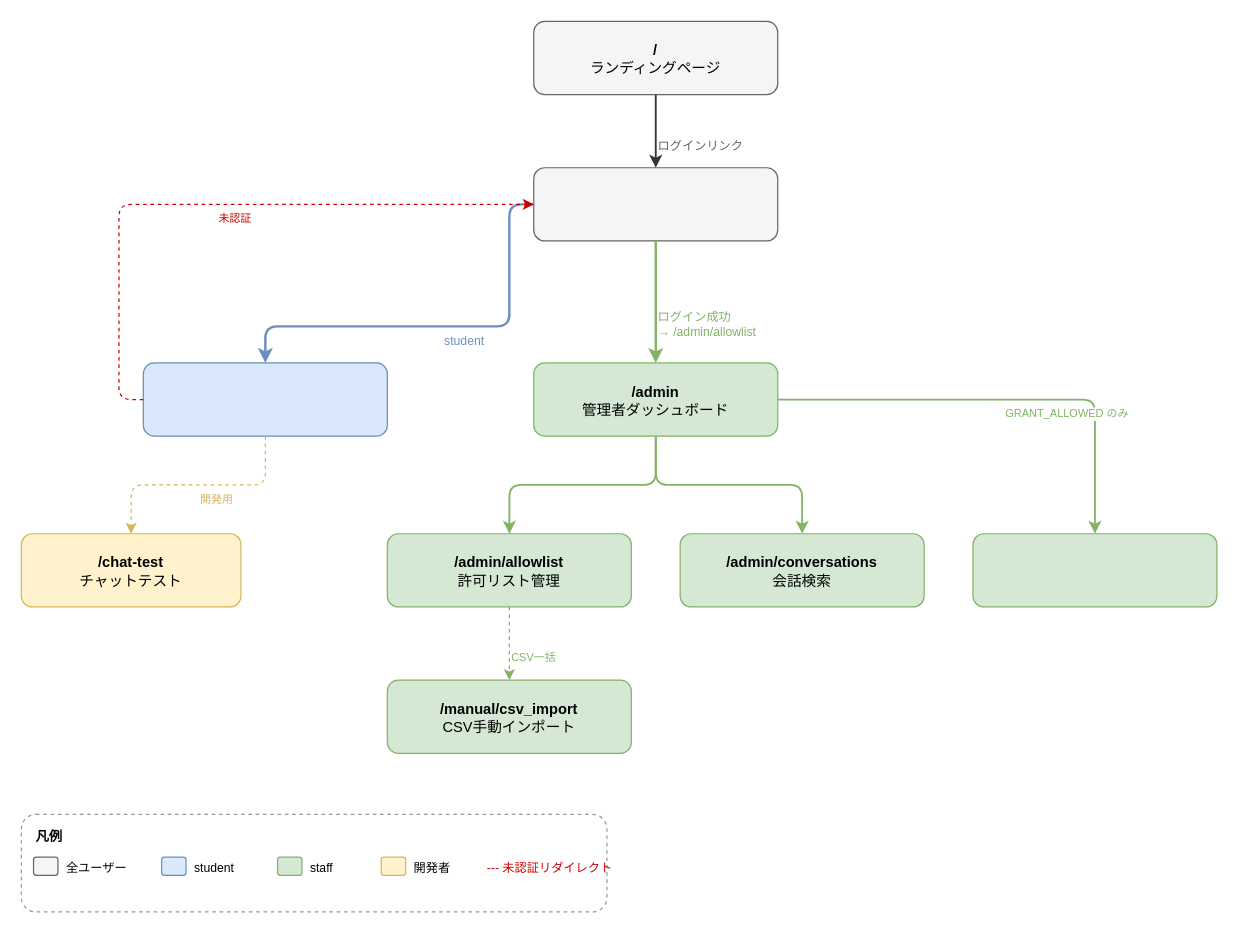
This 1238x933 diagram has some shape labels left out. Each missing label, with the box of its shape:
/admin/grant スタッフ権限管理: (972, 533, 1217, 607)
/chat AIチャット: (142, 362, 387, 436)
/login ログイン / サインアップ: (533, 167, 778, 241)
